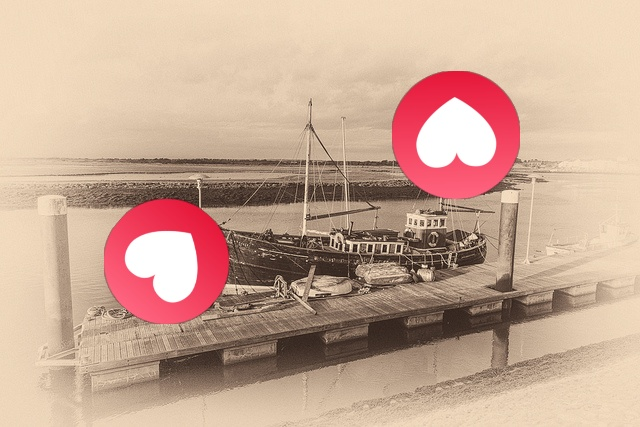love: (392, 71, 520, 199), (104, 199, 229, 324)
